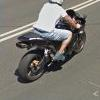Motorcycle: (10, 26, 93, 89)
